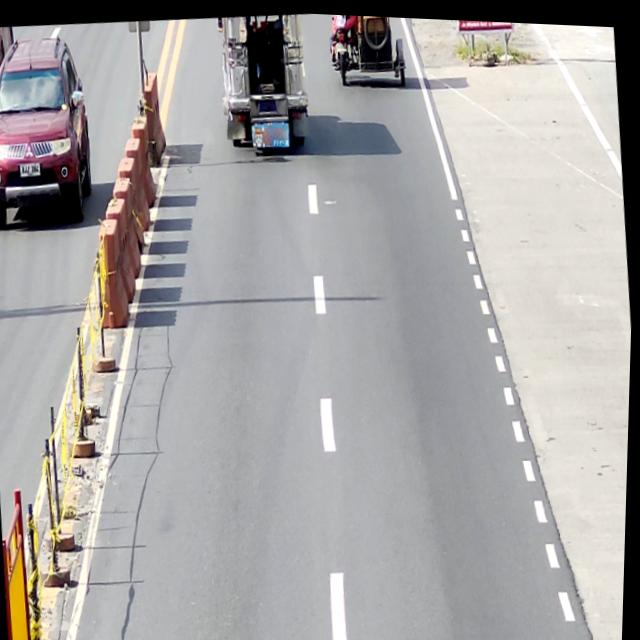Car: (0, 27, 100, 234)
Jeep: (213, 8, 314, 154)
License-Plate: (18, 159, 42, 179)
Tricycle: (325, 11, 407, 88)
